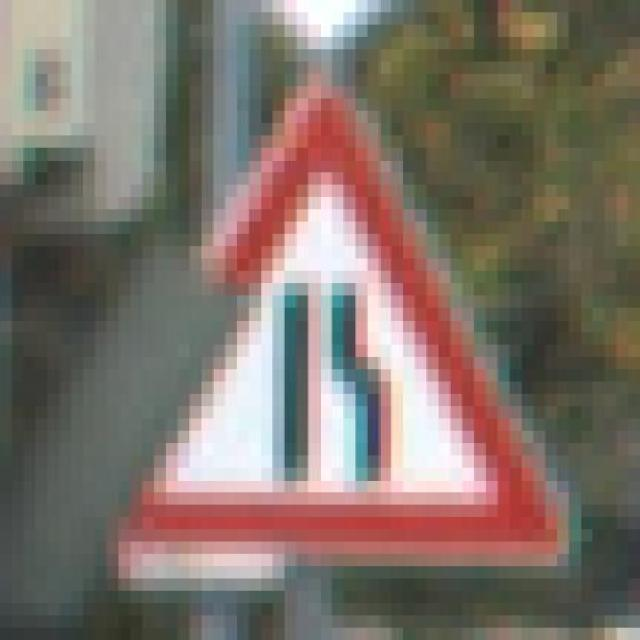-Road narrows on right: (47, 62, 593, 590)
